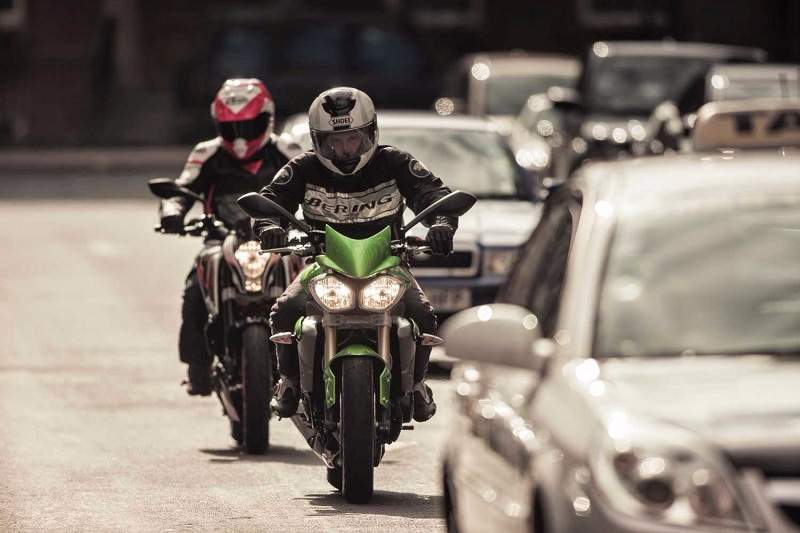helmet: (309, 88, 381, 176), (212, 73, 273, 155)
